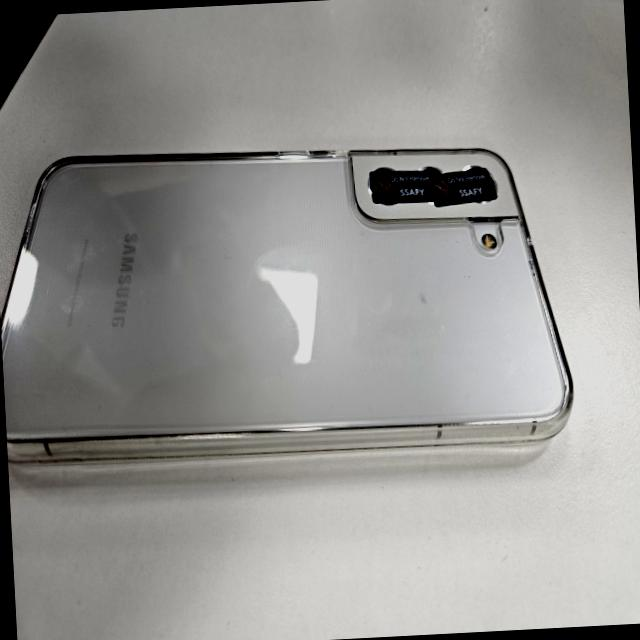phone: (0, 131, 575, 474)
sticker: (369, 168, 434, 203), (432, 168, 494, 204)
